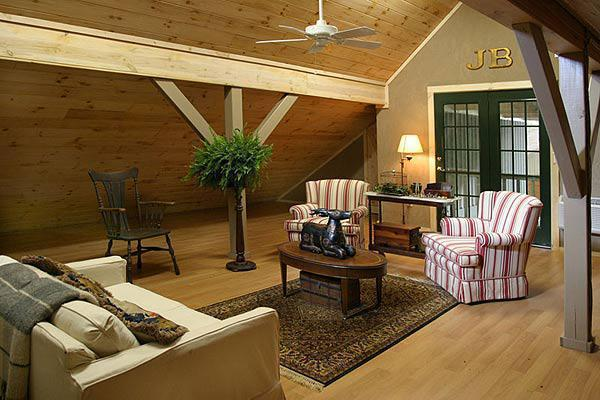Matera: (192, 133, 266, 265)
